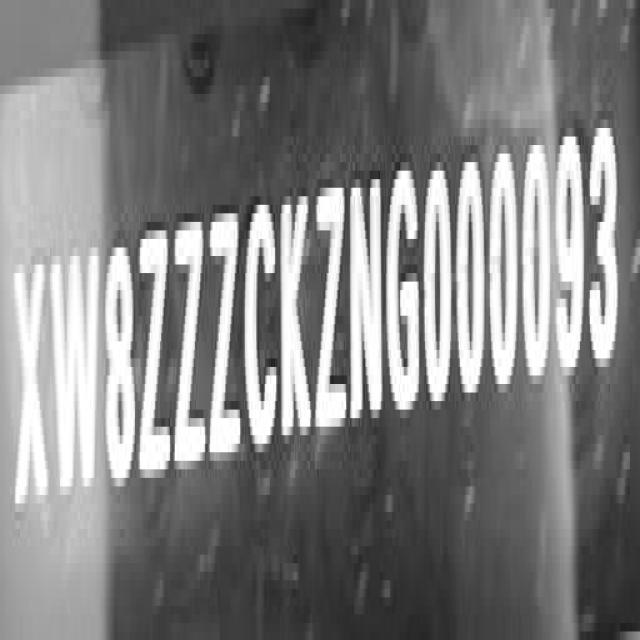0: (487, 133, 521, 398), (520, 132, 552, 386), (423, 155, 454, 417), (456, 155, 486, 411)
3: (590, 111, 618, 376)
8: (102, 237, 136, 496)
9: (552, 123, 586, 379)
C: (240, 180, 278, 449)
G: (386, 161, 419, 433)
K: (278, 177, 313, 449)
N: (347, 158, 385, 427)
W: (48, 256, 103, 518)
X: (13, 253, 49, 521)
Z: (206, 193, 243, 471), (172, 205, 208, 478), (312, 174, 348, 446), (139, 225, 171, 478)
